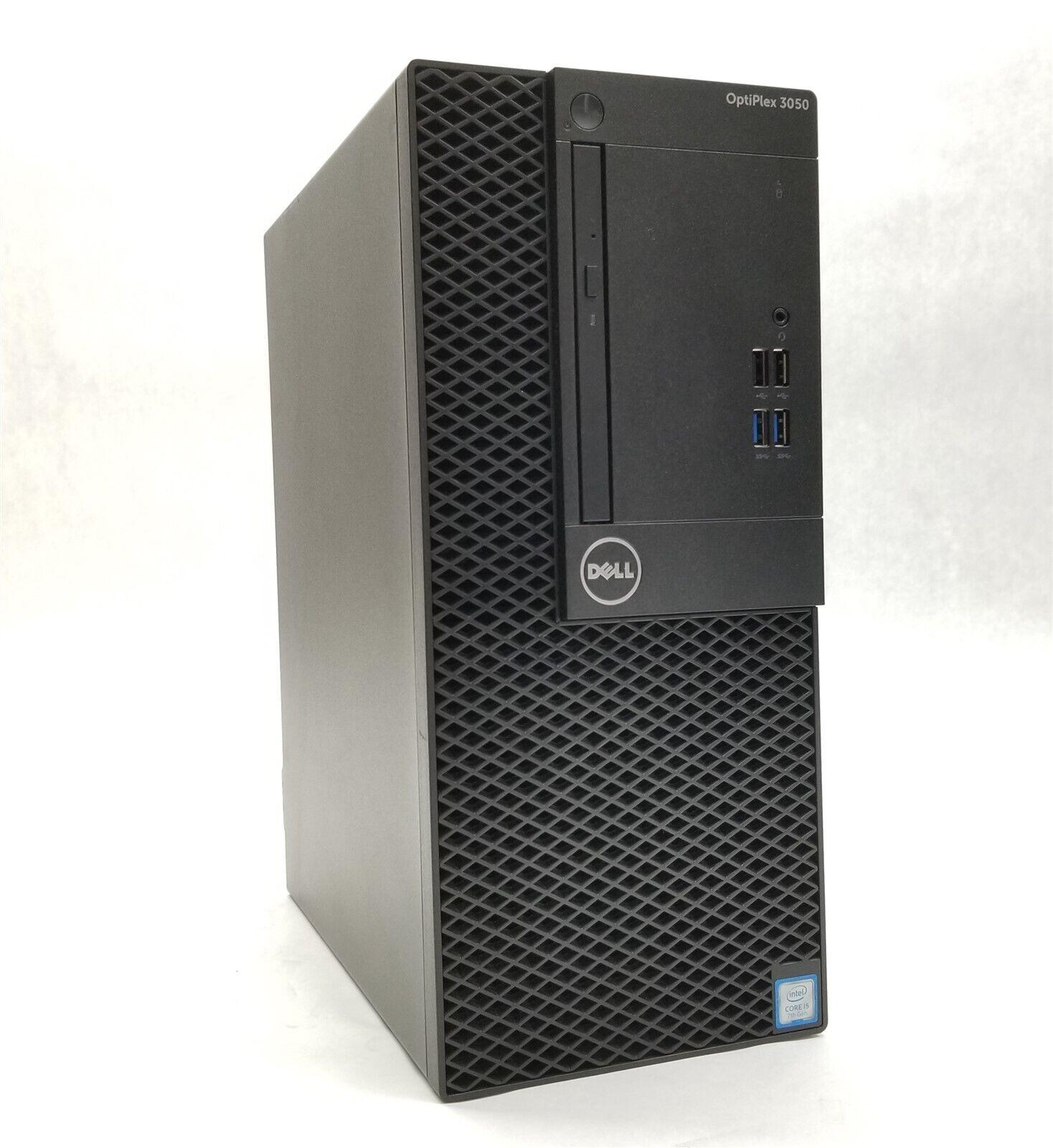computer_tower: (253, 33, 841, 1116)
